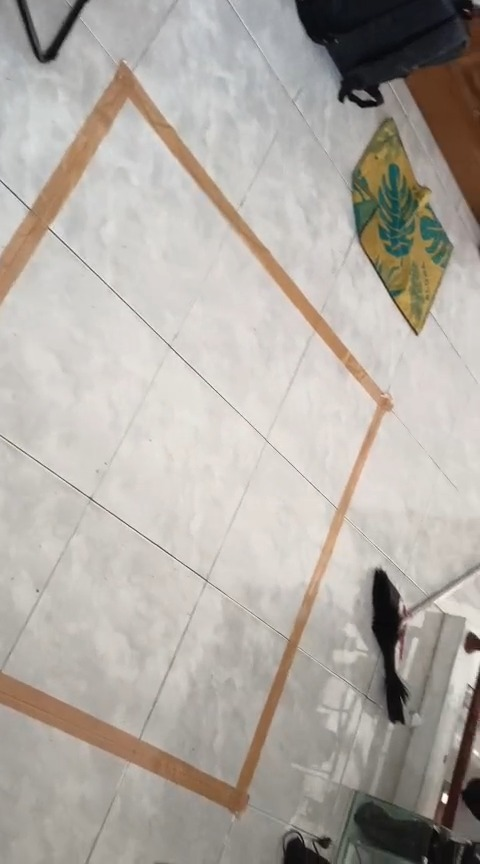floor marking: (0, 64, 392, 813)
